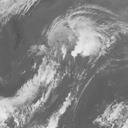cyclone: (47, 4, 106, 59)
